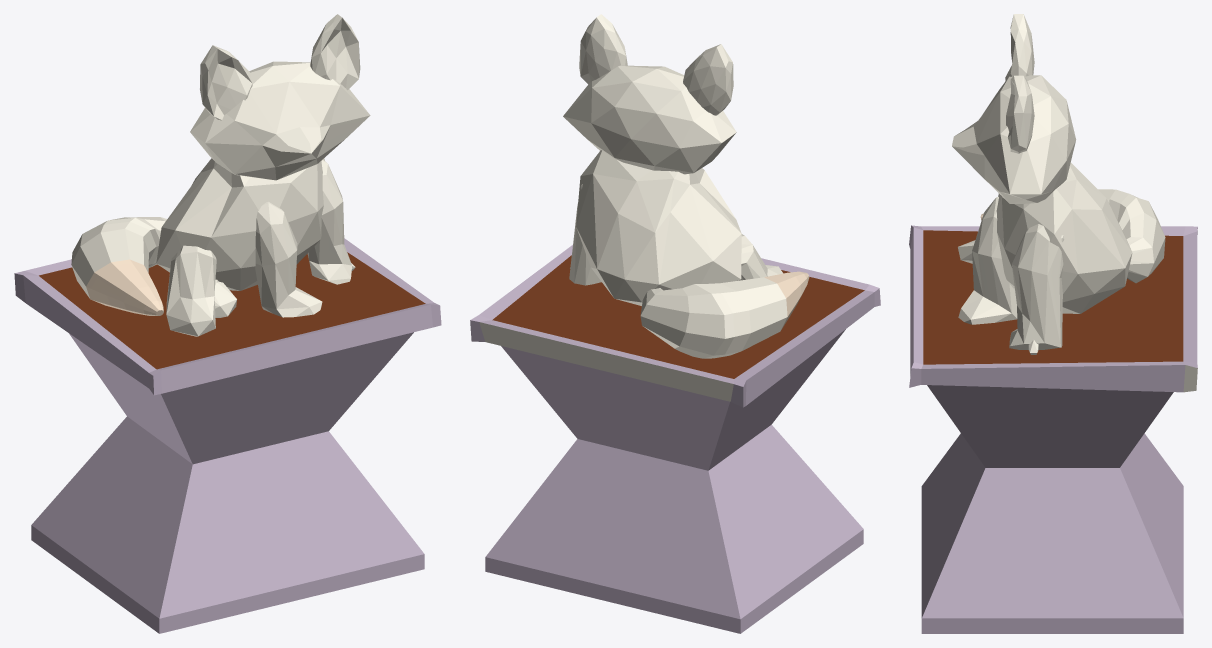
The model's file is fox.fbx.
3 renders of one model, left to right at view 1: azimuth 30°, elevation 25°; view 2: azimuth 150°, elevation 25°; view 3: azimuth 270°, elevation 25°, orthographic. The views are drawn at different scales.
Visible parts, largest first — view 1: Icosphere.001; view 2: Icosphere.001; view 3: Icosphere.001.
Boxes of the visible parts, bbox=[...] form: Icosphere.001: bbox=[14, 14, 441, 633]; Icosphere.001: bbox=[470, 14, 880, 633]; Icosphere.001: bbox=[909, 14, 1197, 633].
Size of the model in its own units: 1449 by 2543 by 1234.
